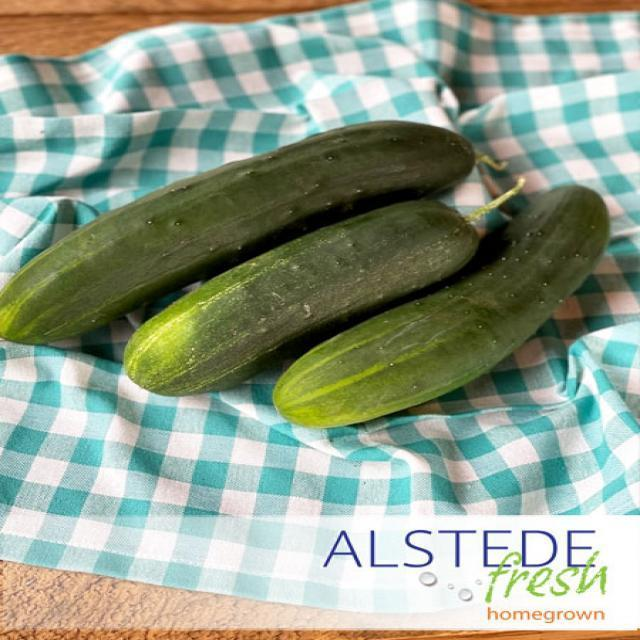Cucumber: (2, 120, 468, 339), (277, 186, 614, 430)
